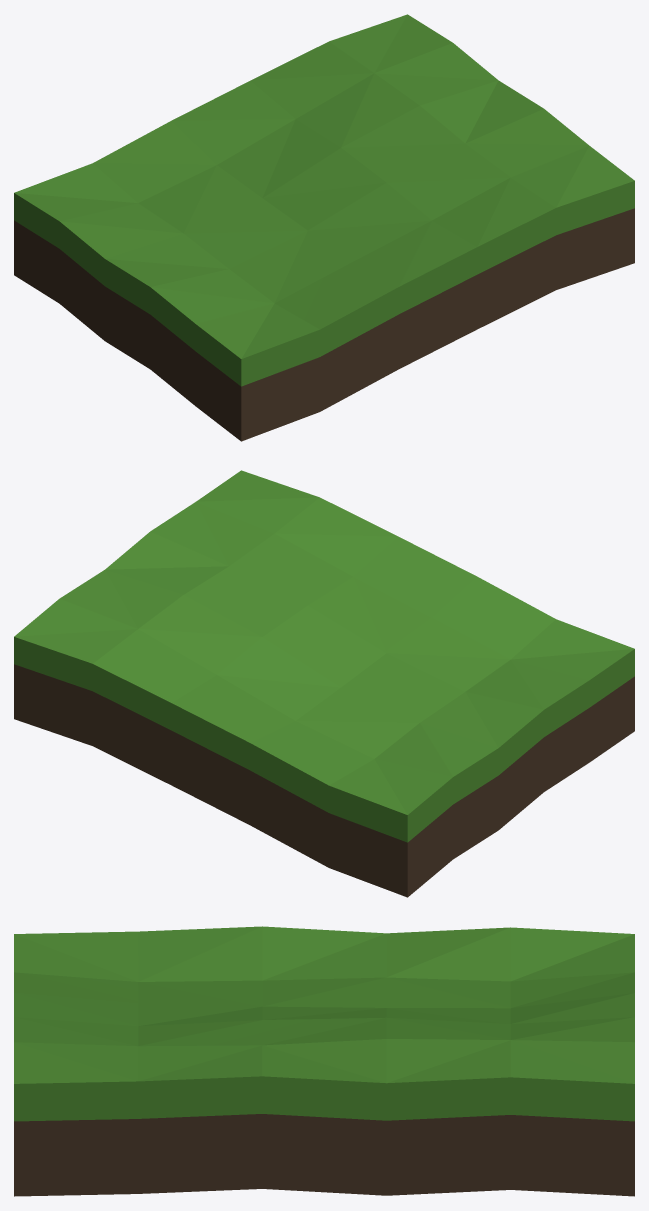
The model's file is terrain-world-slope4.glb.
3 views of the same model, one above another, from view 1: azimuth 30°, elevation 25°; view 2: azimuth 150°, elevation 25°; view 3: azimuth 270°, elevation 25° (orthographic). The views are drawn at different scales.
Visible parts, largest first — view 1: terrain-world-slope4; view 2: terrain-world-slope4; view 3: terrain-world-slope4.
Part boxes in pixels (left/top/right/bottom): terrain-world-slope4: left=14, top=14, right=634, bottom=441; terrain-world-slope4: left=14, top=470, right=634, bottom=897; terrain-world-slope4: left=14, top=926, right=634, bottom=1196.
Bounding box in the file's own units: 30 × 12.4 × 30.
Materials: 1 (1 with a texture image).
